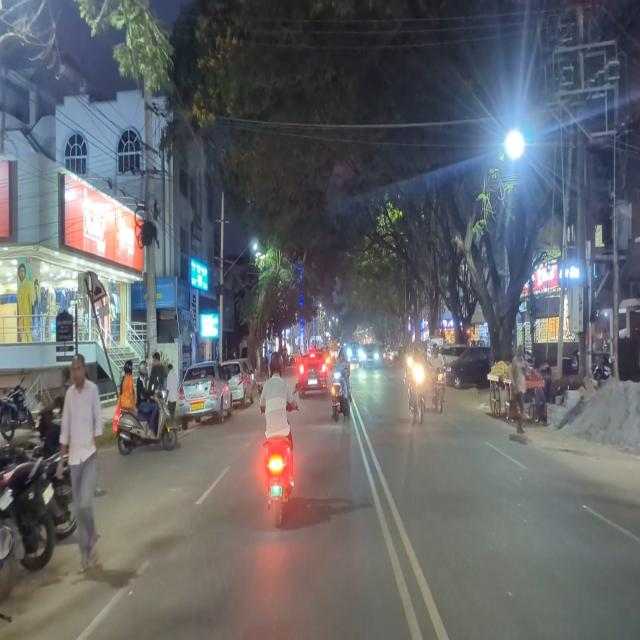bien_cam: (89, 266, 109, 301), (268, 333, 274, 344)
